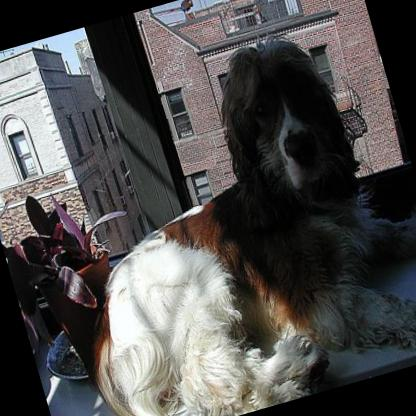cocker_spaniel: (17, 12, 416, 416)
